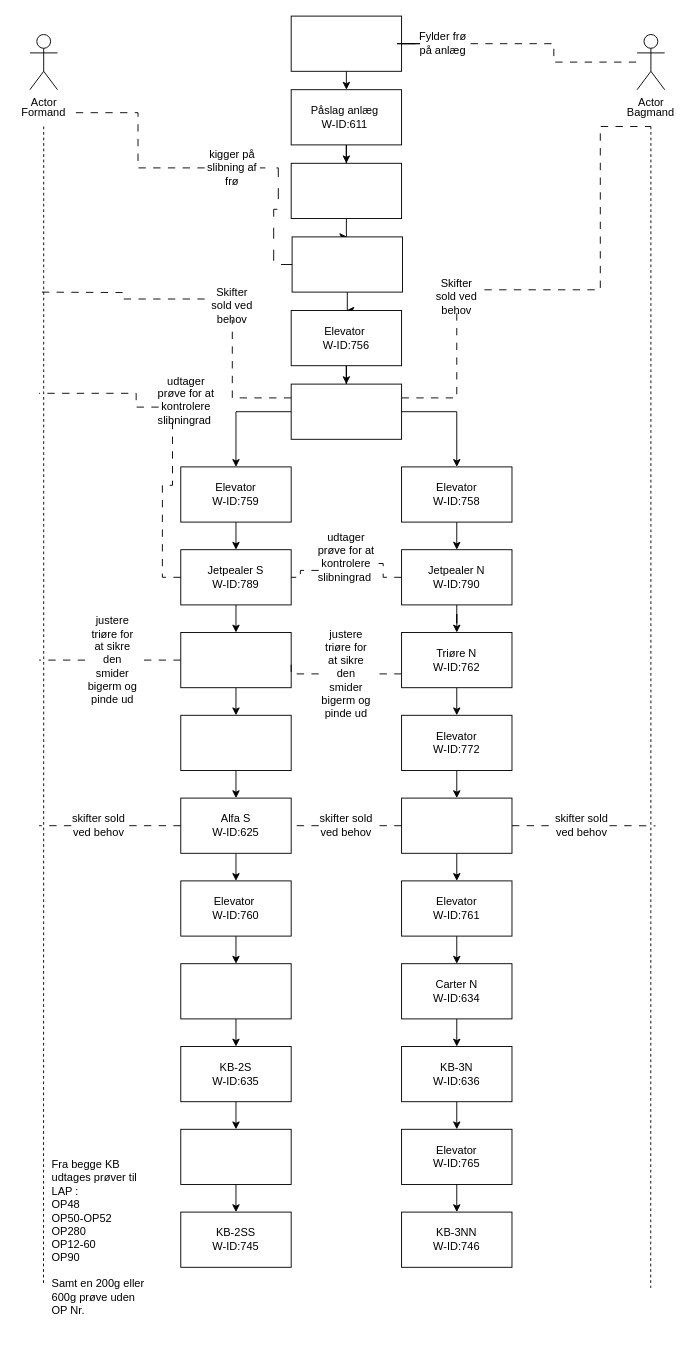
This 694x1346 diagram has some shape labels left out. Here are the shapes that lost their labels. From the top down, the box of each, then its label:
(290, 15, 402, 71): Vippestol W-ID:793/794/795/796
(290, 162, 402, 218): Elevator W-ID:743
(291, 236, 402, 292): Nordmark W-ID:614
(290, 383, 402, 439): Fordeler W-ID:615
(180, 632, 291, 688): Triøre S W-ID:763
(180, 714, 291, 770): Elevator W-ID:773
(401, 797, 512, 853): Alfa N W-ID:738
(180, 963, 291, 1019): Carter S W-ID:633
(180, 1128, 291, 1184): Elevator W-ID:766
